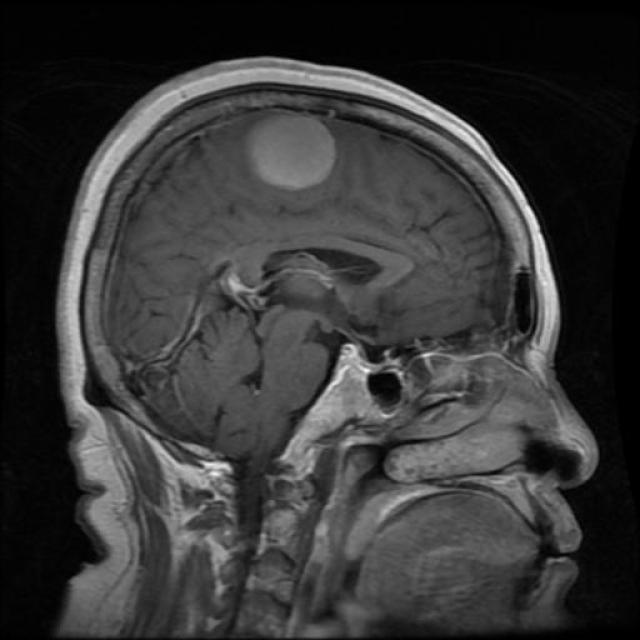meningioma: (242, 115, 336, 191)
